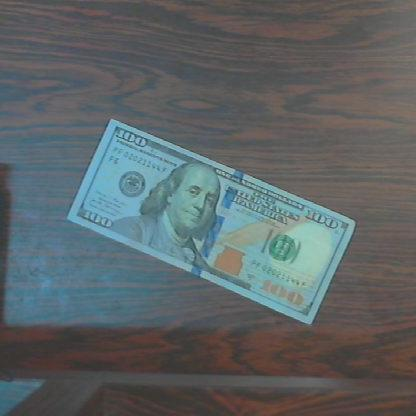dollar_front: (65, 120, 357, 330)
